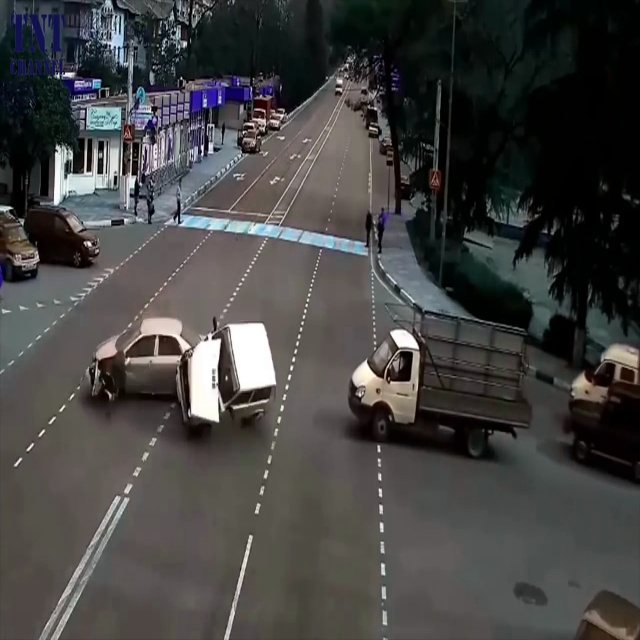acc: (73, 306, 281, 453)
